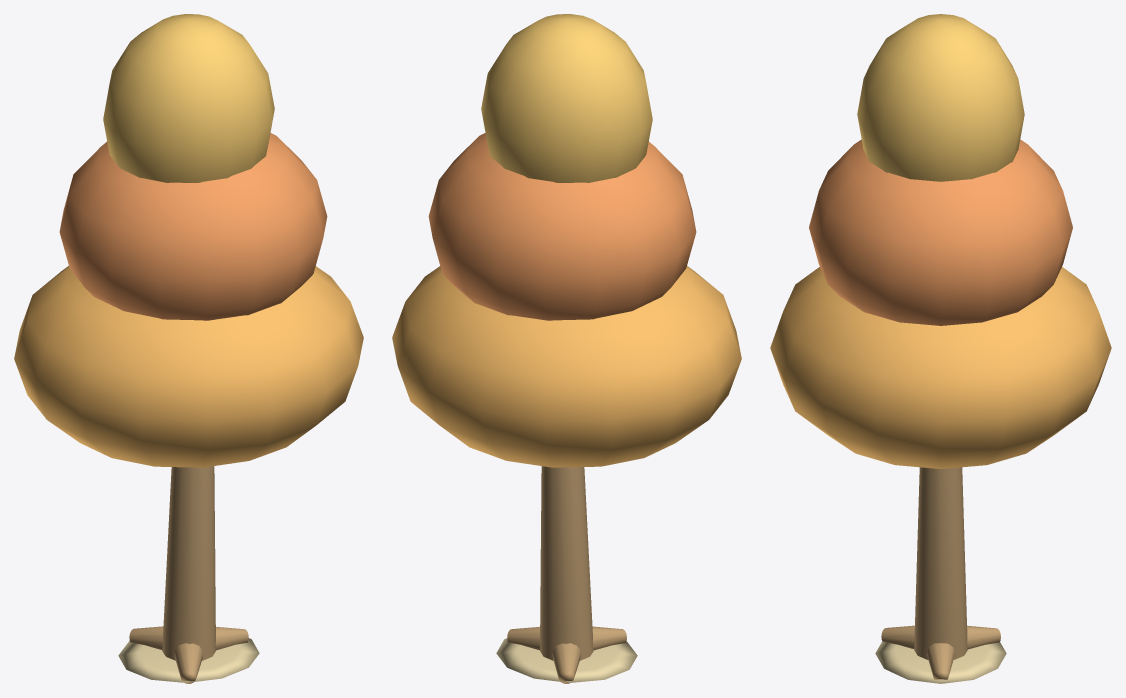
File: tree_v3_autumn.glb
The picture shows the model from 3 angles, left to right: view 1: azimuth 30°, elevation 25°; view 2: azimuth 150°, elevation 25°; view 3: azimuth 270°, elevation 25°; orthographic projection.
Size of the model in its own units: 2.75 by 5.45 by 2.65.
